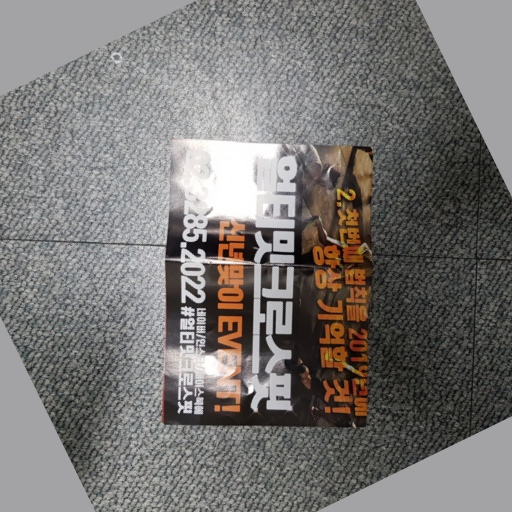Paper_2: (150, 134, 385, 444)
